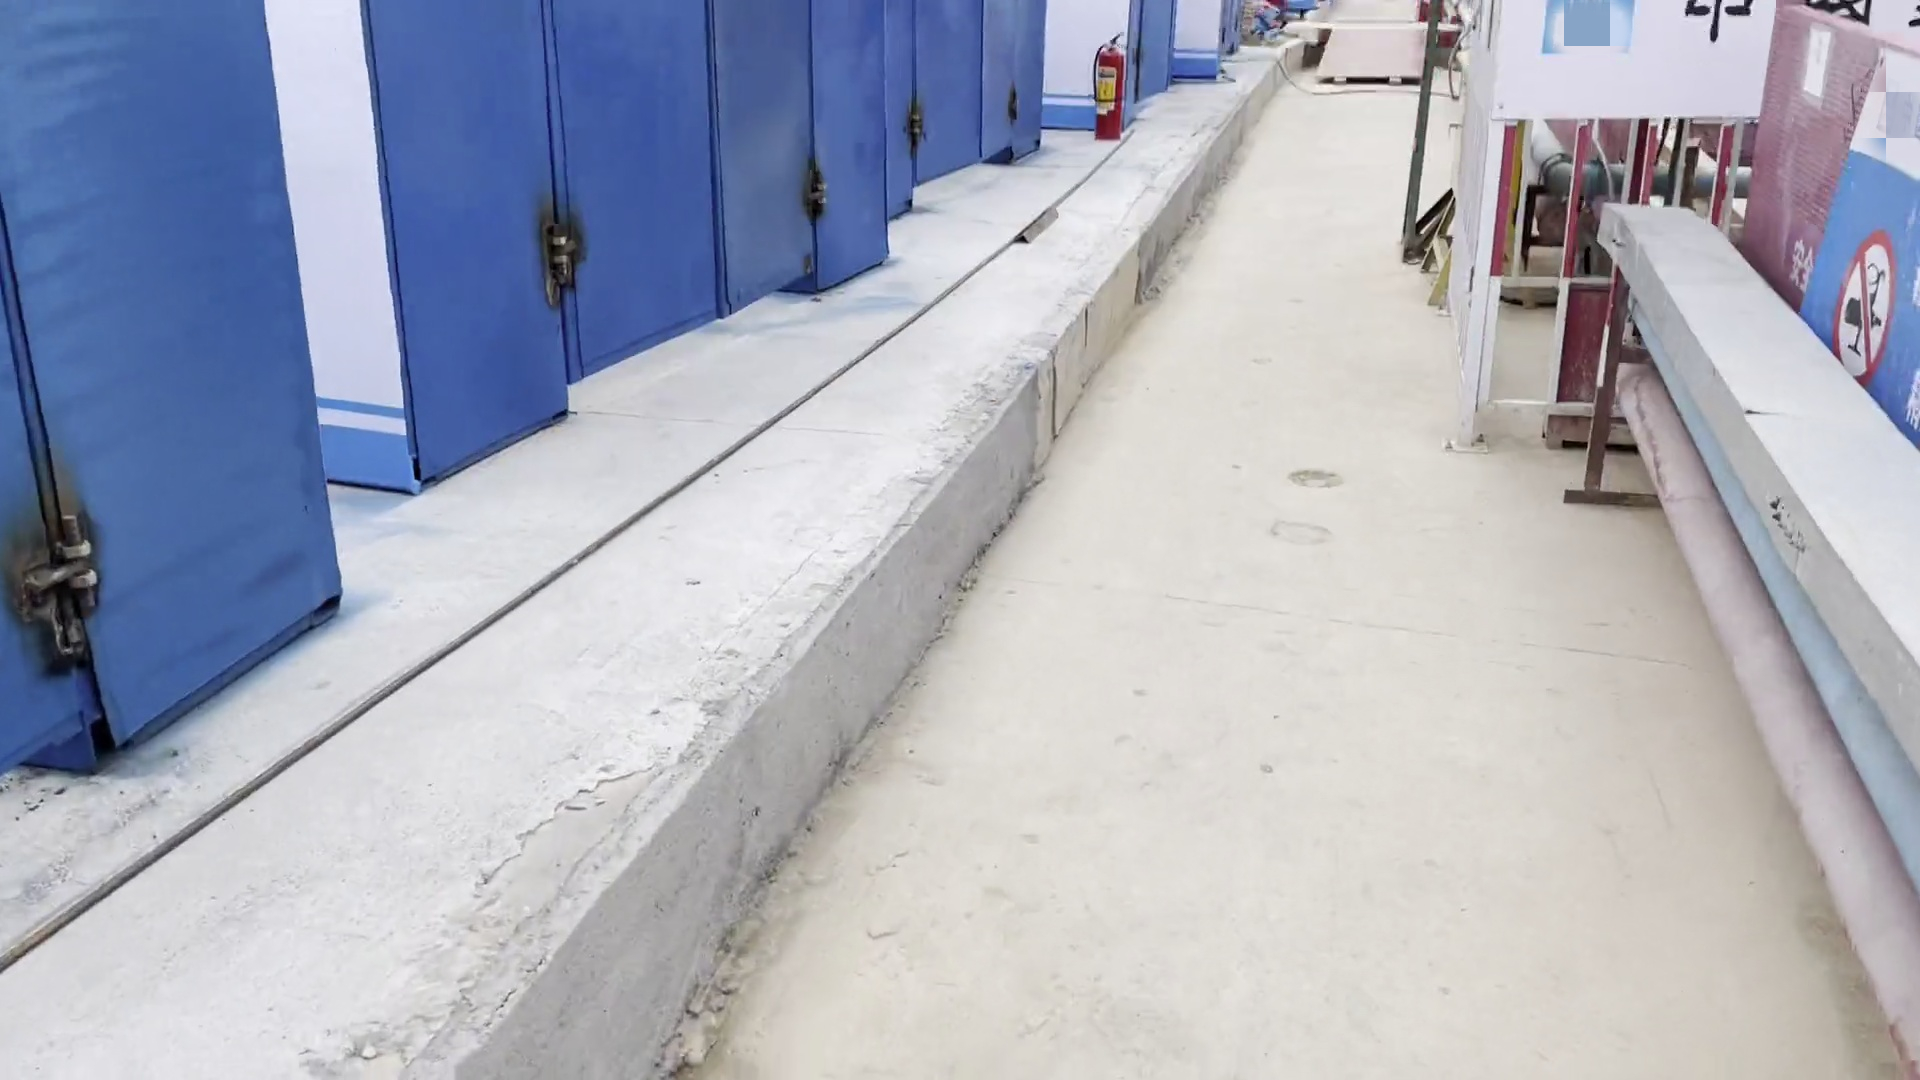ebox: (1431, 41, 1530, 253)
fence: (1745, 3, 1920, 442)
slogan: (1772, 26, 1920, 464), (1495, 1, 1917, 135), (1091, 51, 1129, 131)
